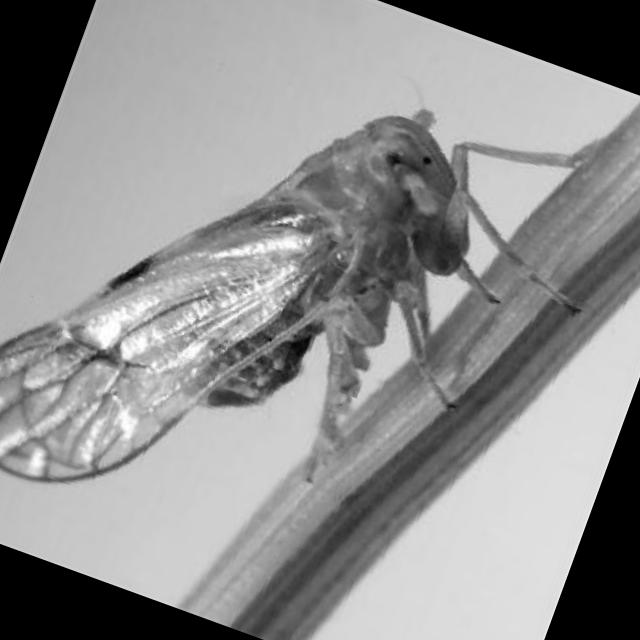brown-planthopper: (0, 0, 570, 617)
